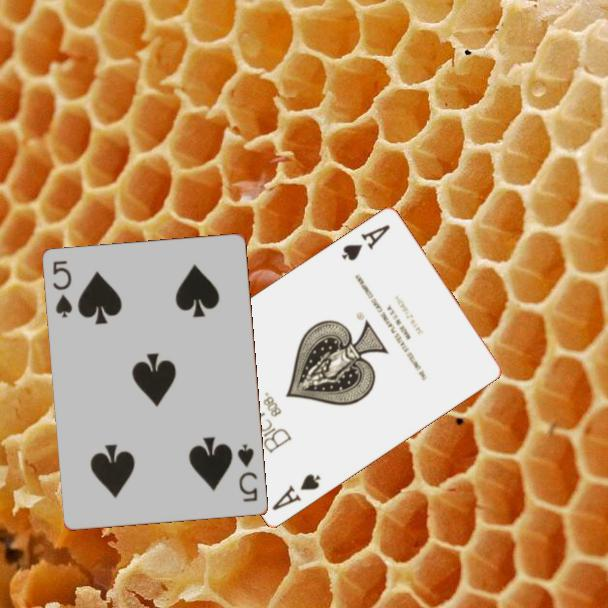s01: (268, 470, 324, 514), (338, 221, 393, 264)
s05: (234, 441, 261, 505), (49, 257, 75, 321)
